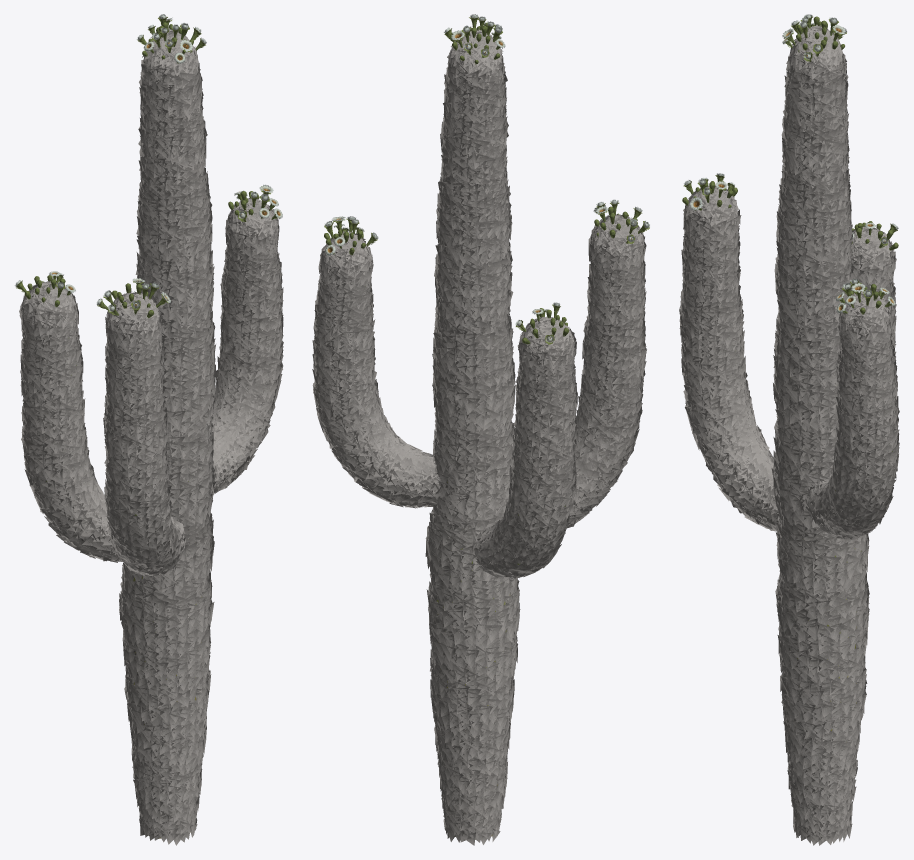
Rendered from cactus_saguaro.glb.
3 views of the same model, side by side, from view 1: azimuth 30°, elevation 25°; view 2: azimuth 150°, elevation 25°; view 3: azimuth 270°, elevation 25° (orthographic).
Parts seen in each view (by area): view 1: Carnegiea_gigantea_HD; view 2: Carnegiea_gigantea_HD; view 3: Carnegiea_gigantea_HD.
Part boxes in pixels (bbox=[...]): Carnegiea_gigantea_HD: bbox=[14, 14, 283, 845]; Carnegiea_gigantea_HD: bbox=[312, 14, 649, 845]; Carnegiea_gigantea_HD: bbox=[679, 14, 899, 845].
Bounding box in the file's own units: 1.81 × 5.49 × 1.34.
10 materials, 10 textured.
